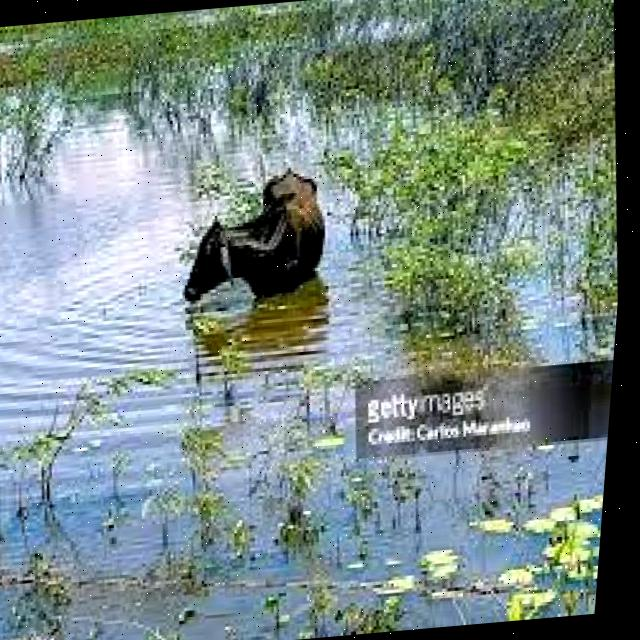cow: (163, 156, 345, 316)
